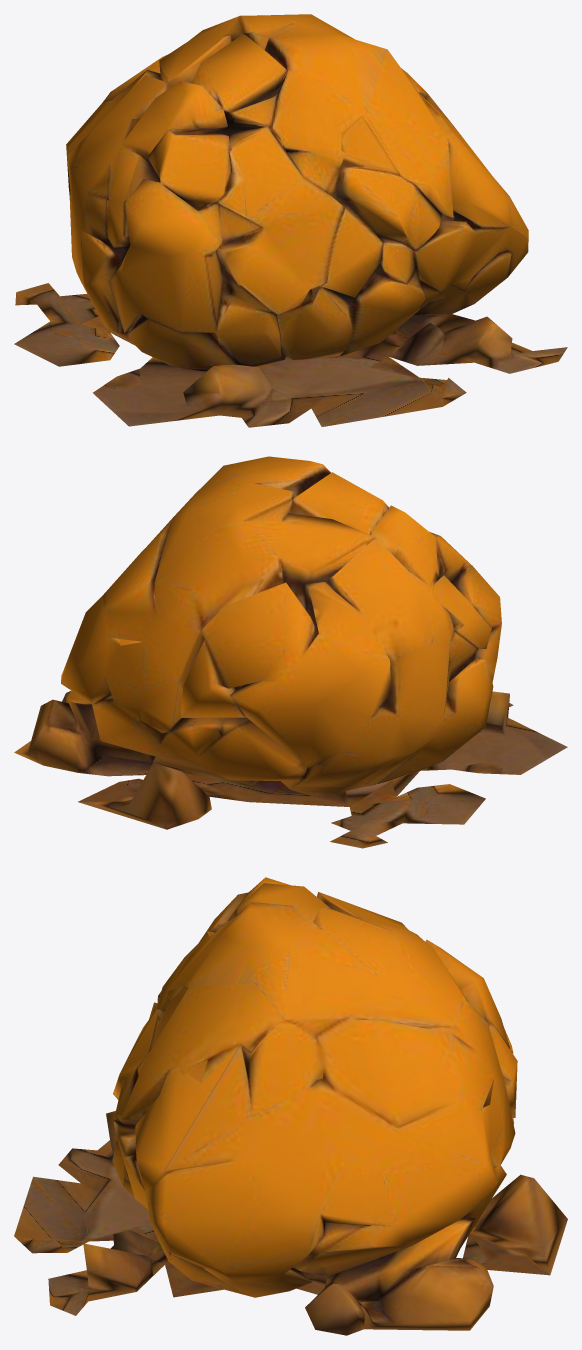
Rendered from rock-boulder-rough.lod.glb.
3 renders of one model, top to bottom at view 1: azimuth 30°, elevation 25°; view 2: azimuth 150°, elevation 25°; view 3: azimuth 270°, elevation 25°, orthographic. The views are drawn at different scales.
Bounding box in the file's own units: 1.82 × 1.12 × 1.8.
1 material, 1 textured.
